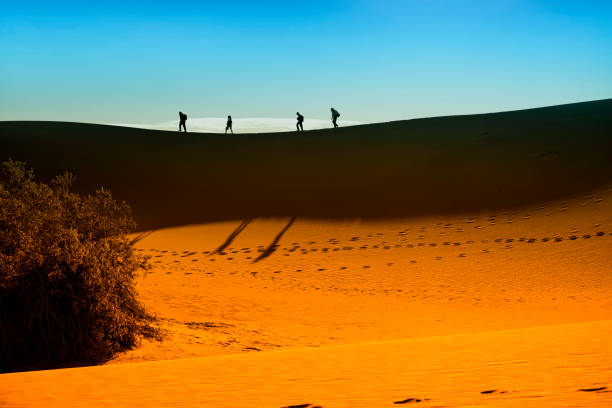human_foot_print: (138, 227, 611, 266)
